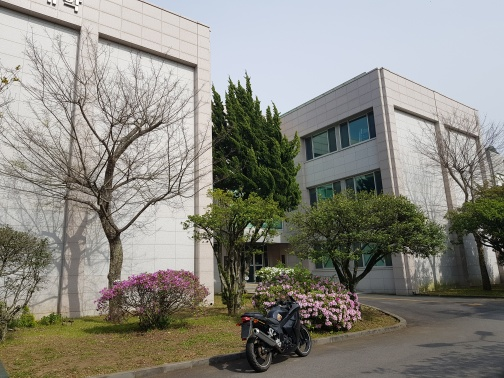College of Nursing: (11, 7, 473, 279)
